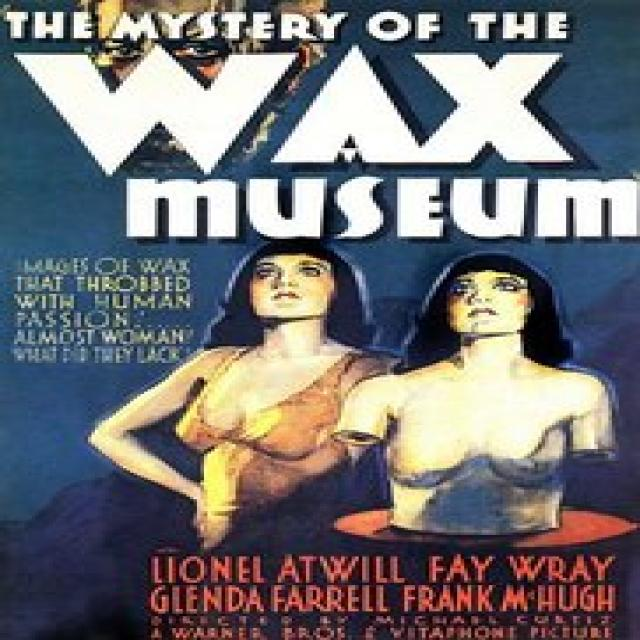movie-judul: (0, 5, 640, 241)
picture: (102, 247, 612, 545)
